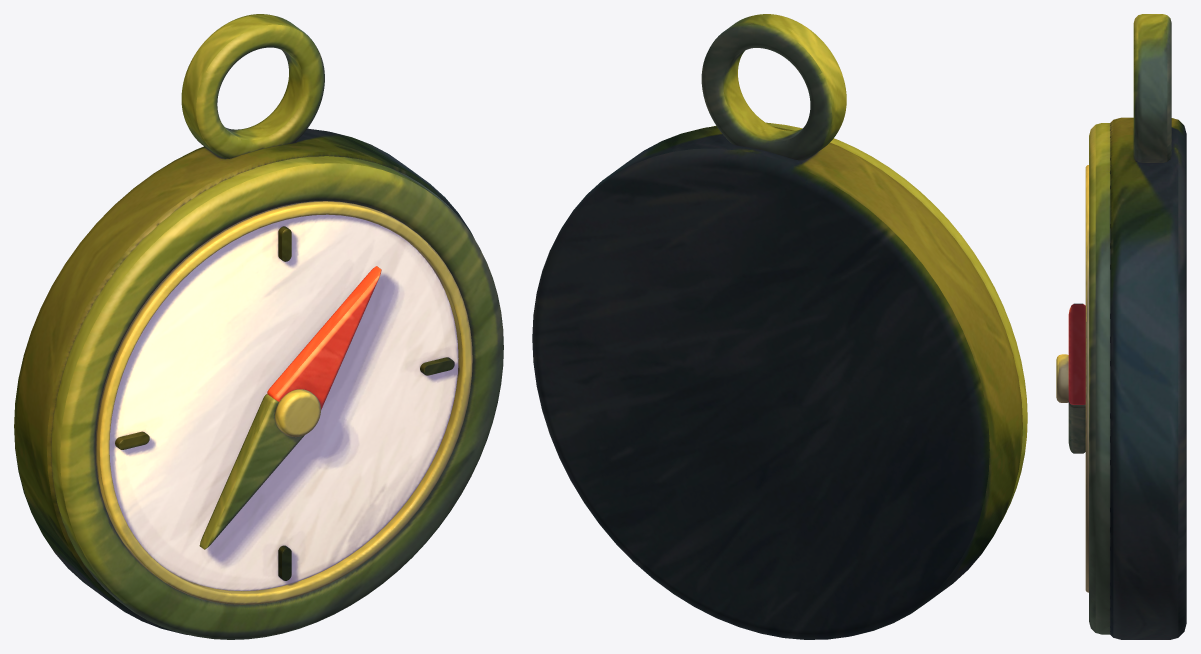
The model's file is explore.glb.
The picture shows the model from 3 angles, left to right: view 1: azimuth 30°, elevation 25°; view 2: azimuth 150°, elevation 25°; view 3: azimuth 270°, elevation 25°; orthographic projection.
Visible parts, largest first — view 1: Compass dial, Machined olive rim, Pocket compass case, Brass dial lip, Hanging loop, Compass needle, Compass needle.001, Pivot button; view 2: Pocket compass case, Hanging loop, Machined olive rim; view 3: Pocket compass case, Machined olive rim, Hanging loop, Compass needle, Brass dial lip, Compass needle.001, Pivot button.
Part boxes in pixels (box(x1,y1,x2,y2)): Compass dial: box(109, 214, 458, 590); Machined olive rim: box(51, 156, 503, 639); Pocket compass case: box(14, 128, 474, 635); Brass dial lip: box(95, 201, 472, 604); Hanging loop: box(181, 14, 324, 158); Compass needle: box(267, 266, 381, 409); Compass needle.001: box(199, 394, 304, 549); Pivot button: box(275, 389, 320, 437); Pocket compass case: box(532, 126, 1022, 639); Hanging loop: box(701, 14, 846, 160); Machined olive rim: box(712, 122, 1027, 521); Pocket compass case: box(1110, 117, 1186, 639); Machined olive rim: box(1089, 123, 1110, 634); Hanging loop: box(1133, 14, 1171, 162); Compass needle: box(1068, 303, 1085, 404); Brass dial lip: box(1085, 165, 1088, 592); Compass needle.001: box(1068, 401, 1085, 453); Pivot button: box(1056, 354, 1068, 402).
Size of the model in its own units: 1.93 by 2.42 by 0.4805.
6 materials, 6 textured.
